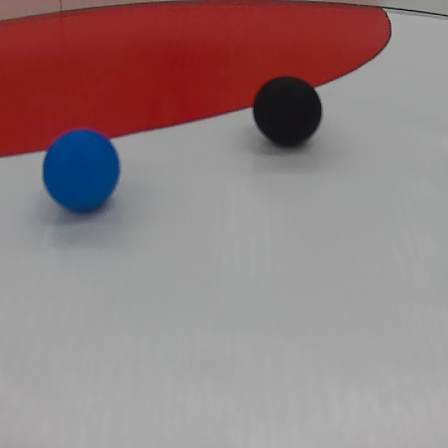black: (253, 79, 330, 145)
blue: (39, 131, 124, 213)
red_base: (0, 0, 401, 158)
